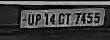1: (42, 12, 50, 27)
4: (49, 12, 57, 27), (80, 12, 87, 26)
5: (92, 10, 102, 24), (87, 10, 94, 27)
7: (72, 11, 82, 26)
G: (57, 11, 65, 27)
P: (35, 13, 44, 26)
T: (64, 11, 72, 26)
U: (27, 11, 35, 27)
